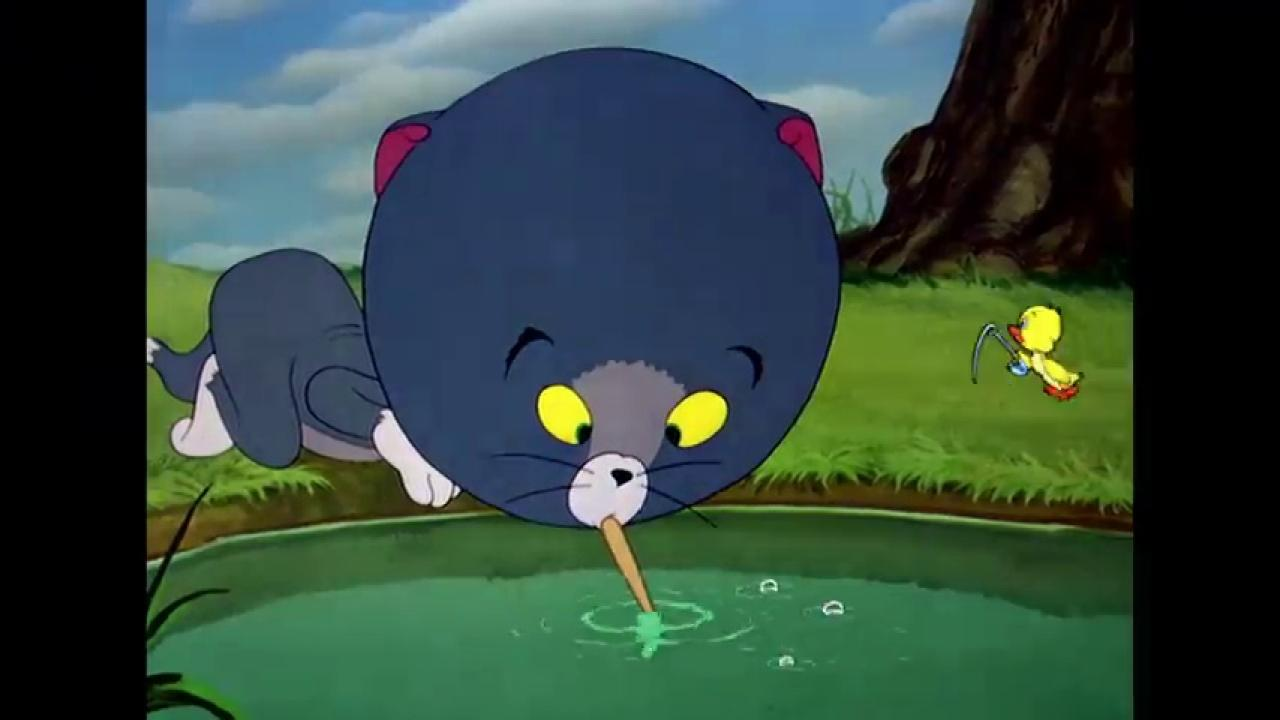Tom: (146, 44, 846, 533)
